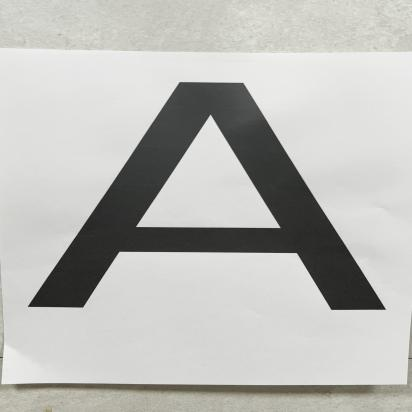seat: (18, 74, 412, 327)
